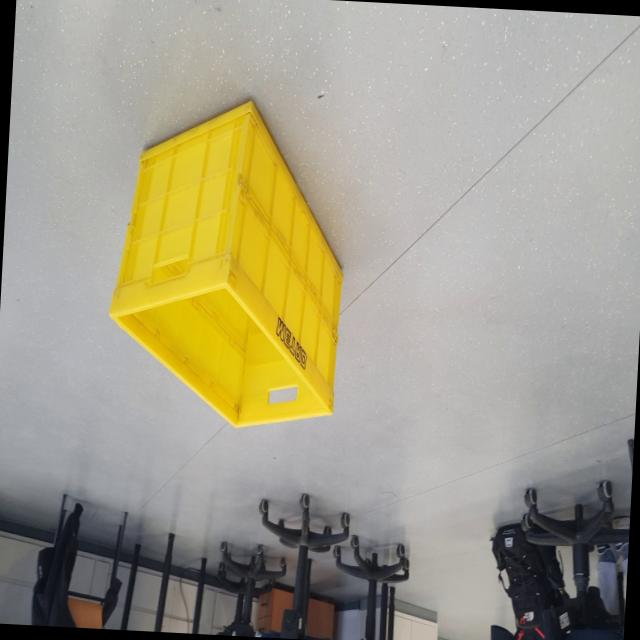box: (96, 86, 359, 442)
